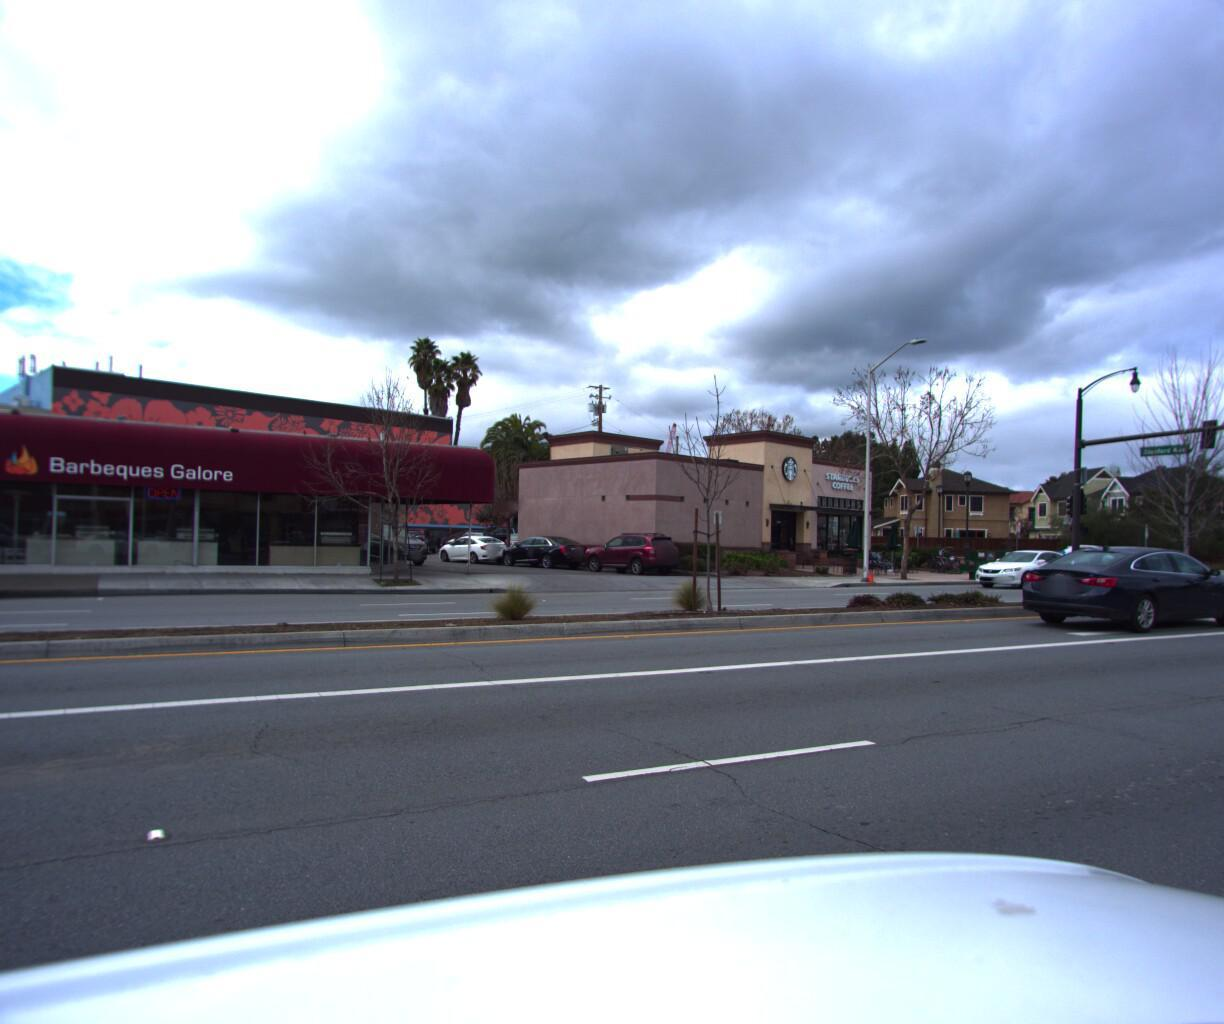car: (1009, 540, 1224, 633), (964, 542, 1085, 585), (580, 529, 685, 573), (500, 535, 594, 568)
